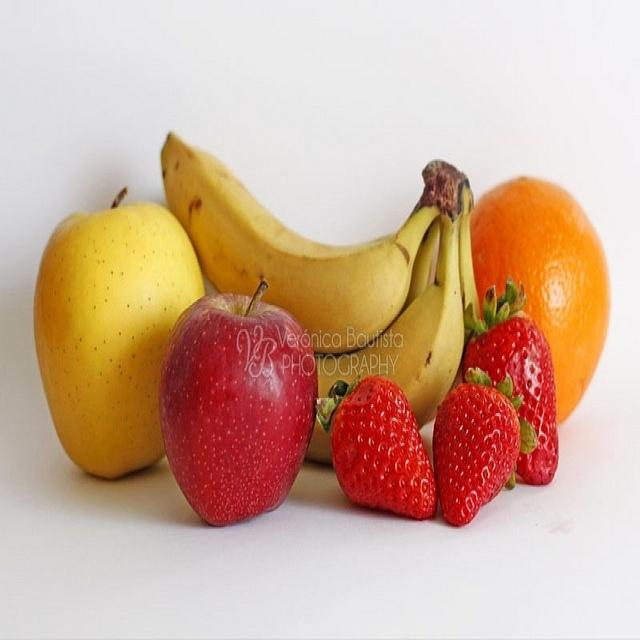Apple: (163, 278, 322, 528)
Orange: (475, 172, 610, 419)
Strawberry: (464, 285, 560, 486), (318, 376, 438, 522), (431, 373, 528, 530)
